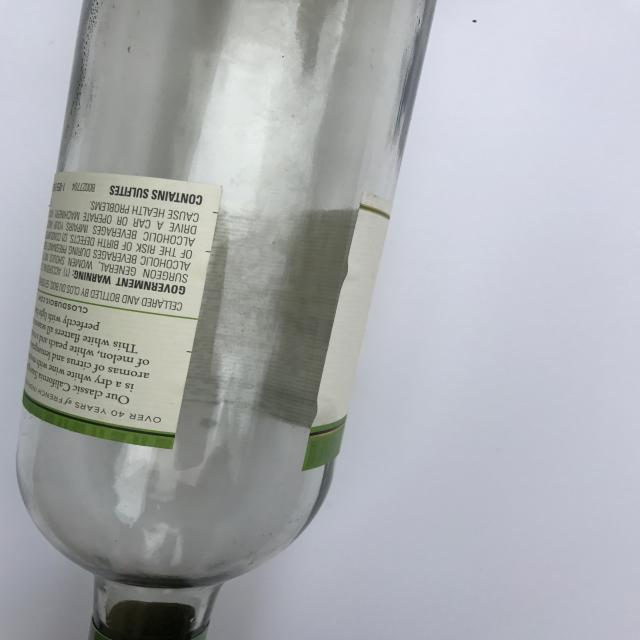glass: (14, 0, 436, 640)
